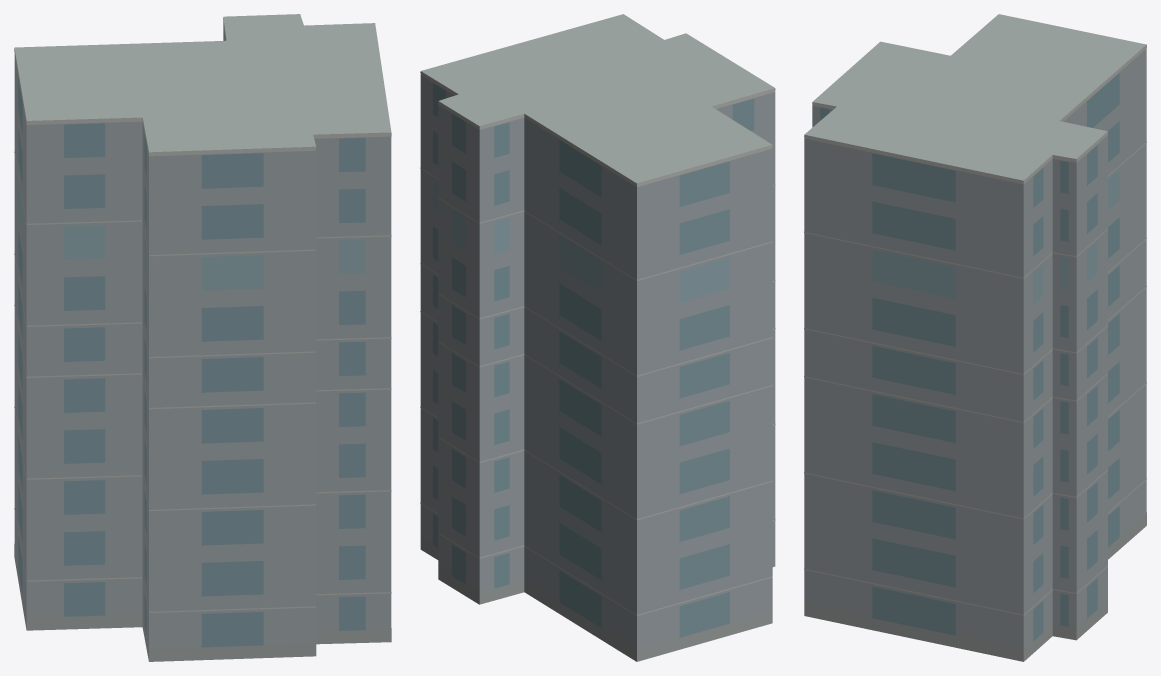
Rendered from survey-upis-32631445.glb.
The picture shows the model from 3 angles, left to right: view 1: azimuth 30°, elevation 25°; view 2: azimuth 150°, elevation 25°; view 3: azimuth 270°, elevation 25°; orthographic projection. The views are drawn at different scales.
Parts seen in each view (by area): view 1: survey-upis-32631445.tmp; view 2: survey-upis-32631445.tmp; view 3: survey-upis-32631445.tmp.
Part boxes in pixels (left/top/right/bottom): survey-upis-32631445.tmp: left=14, top=14, right=391, bottom=661; survey-upis-32631445.tmp: left=420, top=14, right=775, bottom=661; survey-upis-32631445.tmp: left=804, top=14, right=1146, bottom=661.
Bounding box in the file's own units: 22.68 × 30.5 × 19.7.
